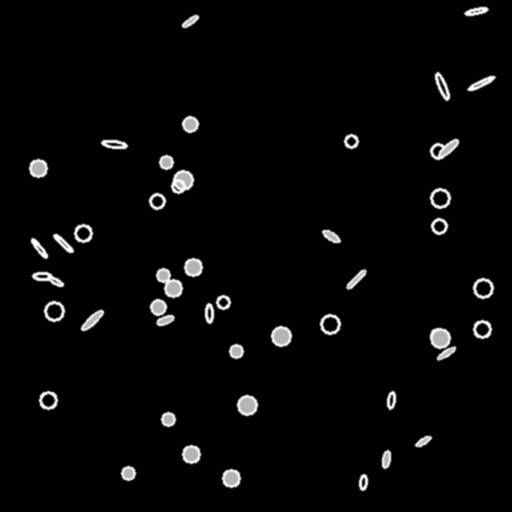pseudomonas: (80, 309, 104, 331), (467, 74, 495, 92), (433, 72, 451, 100), (345, 268, 367, 290), (437, 138, 459, 158), (52, 233, 74, 253), (30, 237, 48, 259), (436, 345, 456, 361), (101, 139, 127, 149), (181, 14, 199, 28), (414, 434, 432, 448), (322, 229, 340, 243), (464, 6, 488, 16), (156, 314, 174, 326), (47, 275, 63, 287), (386, 391, 396, 409), (205, 303, 213, 323), (359, 474, 367, 490), (382, 451, 390, 467), (32, 273, 52, 279)
synechocystis: (431, 189, 449, 207), (45, 302, 63, 320), (174, 171, 192, 189), (431, 329, 449, 347), (238, 396, 256, 414), (321, 315, 339, 333), (474, 279, 492, 297), (272, 327, 290, 345), (185, 259, 201, 275), (75, 225, 91, 241), (40, 392, 56, 408), (30, 160, 46, 176), (223, 470, 239, 486), (165, 280, 181, 296), (183, 446, 199, 462), (474, 321, 490, 337), (431, 144, 445, 158), (432, 219, 446, 233), (151, 300, 165, 314), (183, 117, 197, 131), (150, 194, 164, 208), (431, 329, 443, 341), (217, 296, 229, 308), (122, 467, 134, 479), (162, 413, 174, 425), (172, 180, 184, 192), (230, 345, 242, 357), (157, 269, 169, 281), (345, 135, 357, 147), (160, 156, 172, 168)
